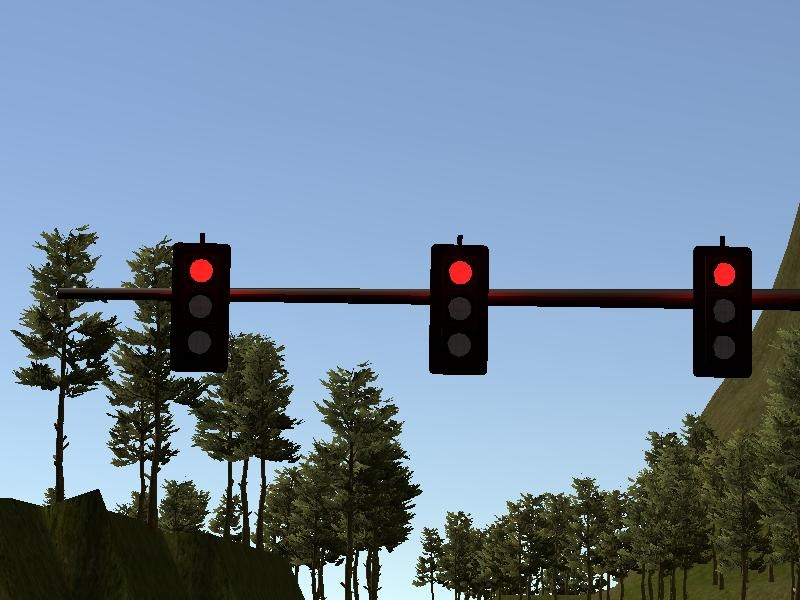Red: (426, 241, 491, 378), (690, 244, 754, 381), (169, 240, 232, 375)
